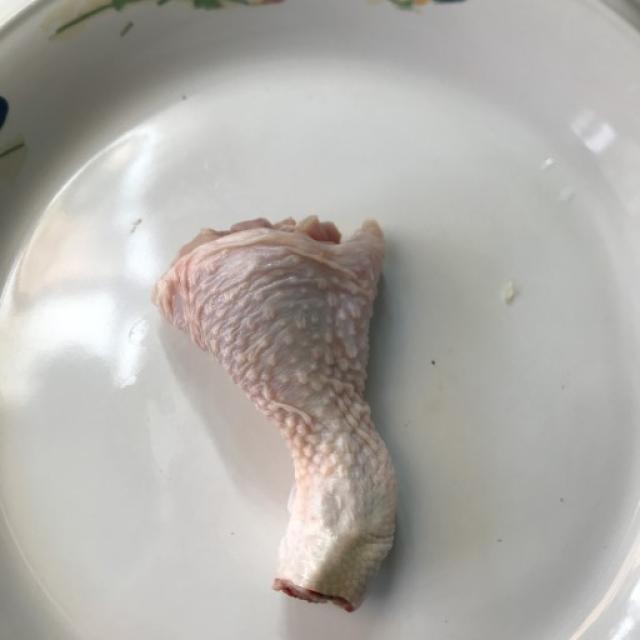Wet Waste: (138, 196, 445, 620)
